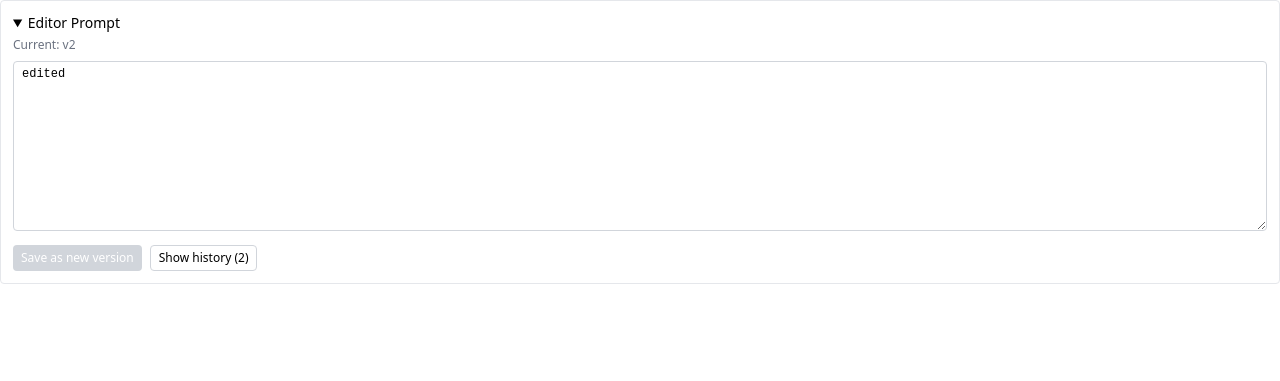
Scenario: PromptEditor › toggles history visibility
The width and height of the screenshot is (1280, 381).
Check: the text box showing "edited" is shown, box [13,61,1267,231]
Check: the text "v1" is not shown
Click the button "Show history (2)" at (204, 258), box [150,245,258,271]
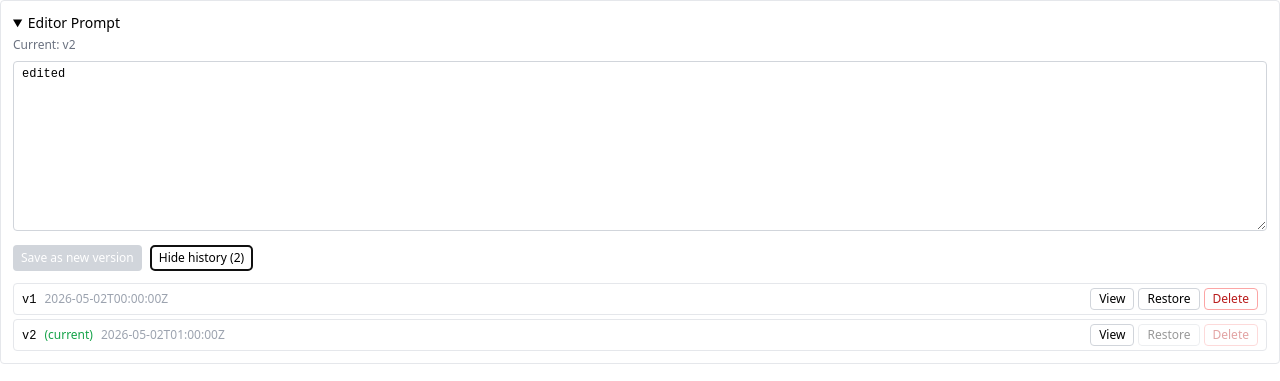
Check: the text "v1" is shown, box [22,292,36,306]
Check: the text "v2" is shown, box [22,328,36,342]
